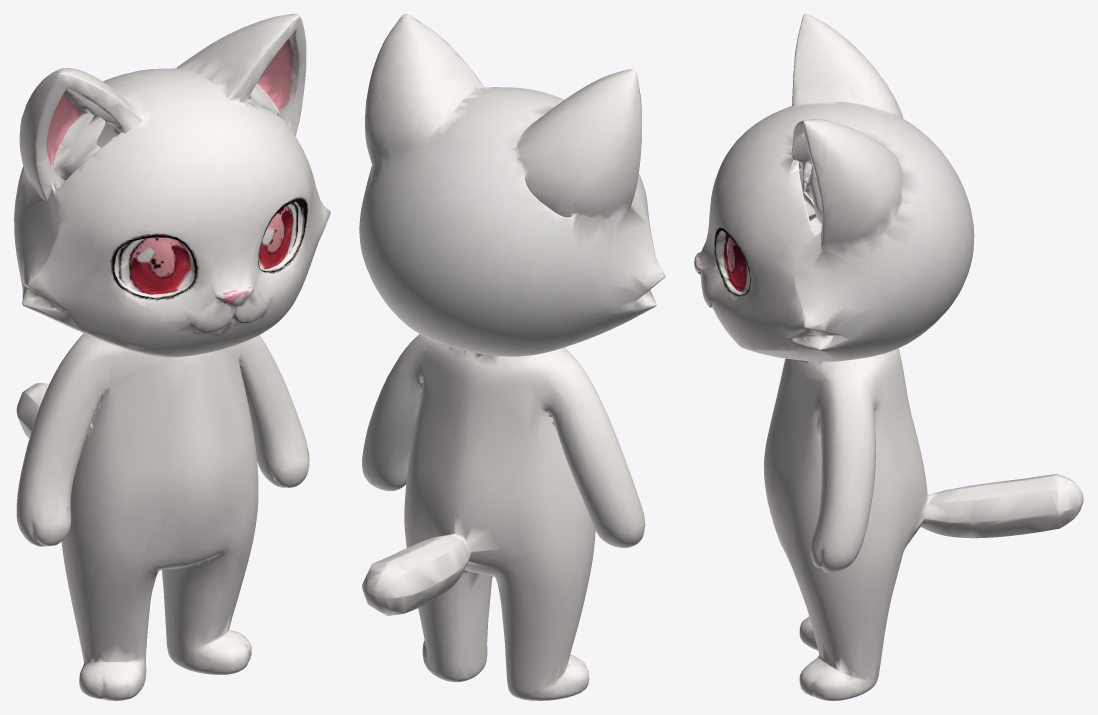
File: mascot.glb
3 renders of one model, left to right at view 1: azimuth 30°, elevation 25°; view 2: azimuth 150°, elevation 25°; view 3: azimuth 270°, elevation 25°, orthographic. The views are drawn at different scales.
Size of the model in its own units: 0.4913 by 1 by 0.5901.
1 material, 1 textured.
